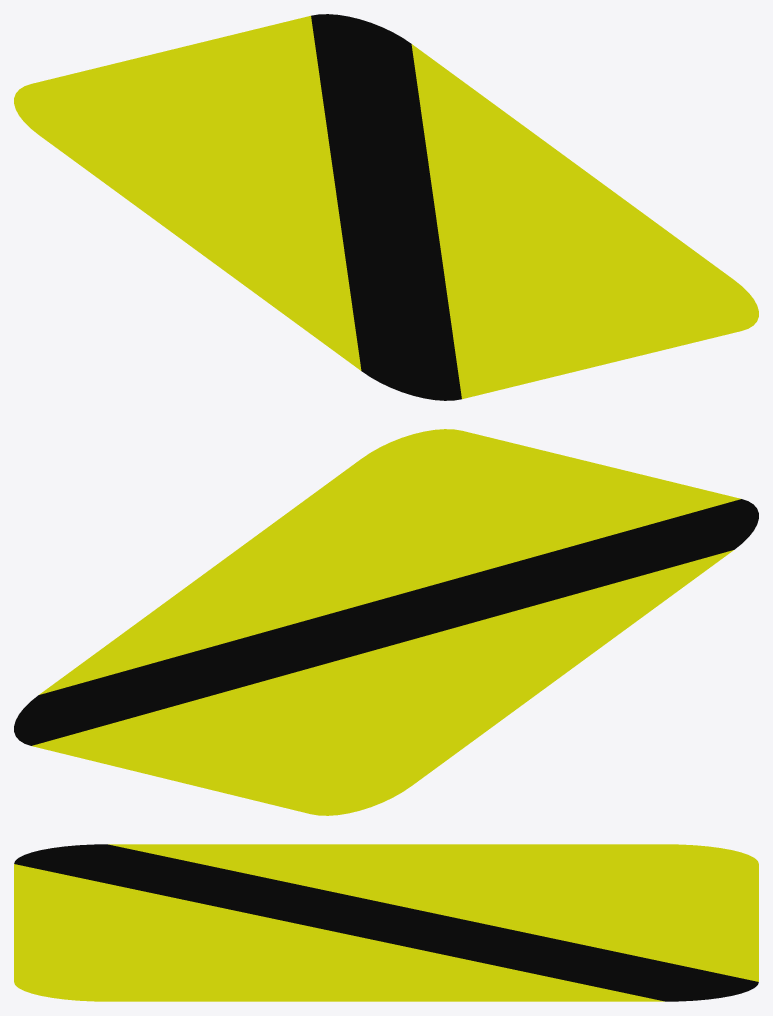
The model's file is Card3.fbx.
3 renders of one model, top to bottom at view 1: azimuth 30°, elevation 25°; view 2: azimuth 150°, elevation 25°; view 3: azimuth 270°, elevation 25°, orthographic. The views are drawn at different scales.
Visible parts, largest first — view 1: Card3; view 2: Card3; view 3: Card3.
Part boxes in pixels (x1,y1,x2,y2): Card3: [14, 14, 758, 400]; Card3: [14, 429, 758, 815]; Card3: [14, 844, 758, 1001].
Size of the model in its own units: 25 by 8.15e-06 by 50.
